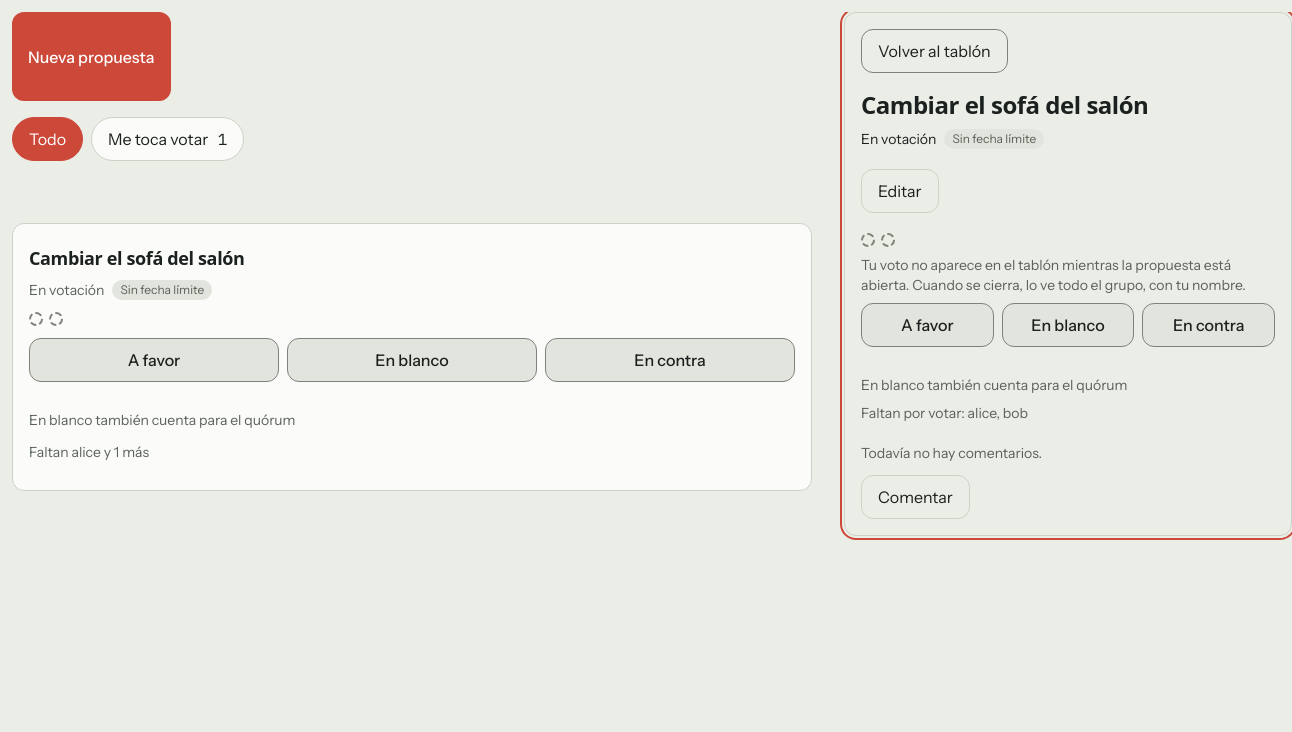
Test: BoardPage, el momento de votar › se anuncia una sola vez aunque la propuesta esté en la lista y en el panel a la vez
Click the 1st button "A favor".
click(927, 325)  # box [861,303,994,347]
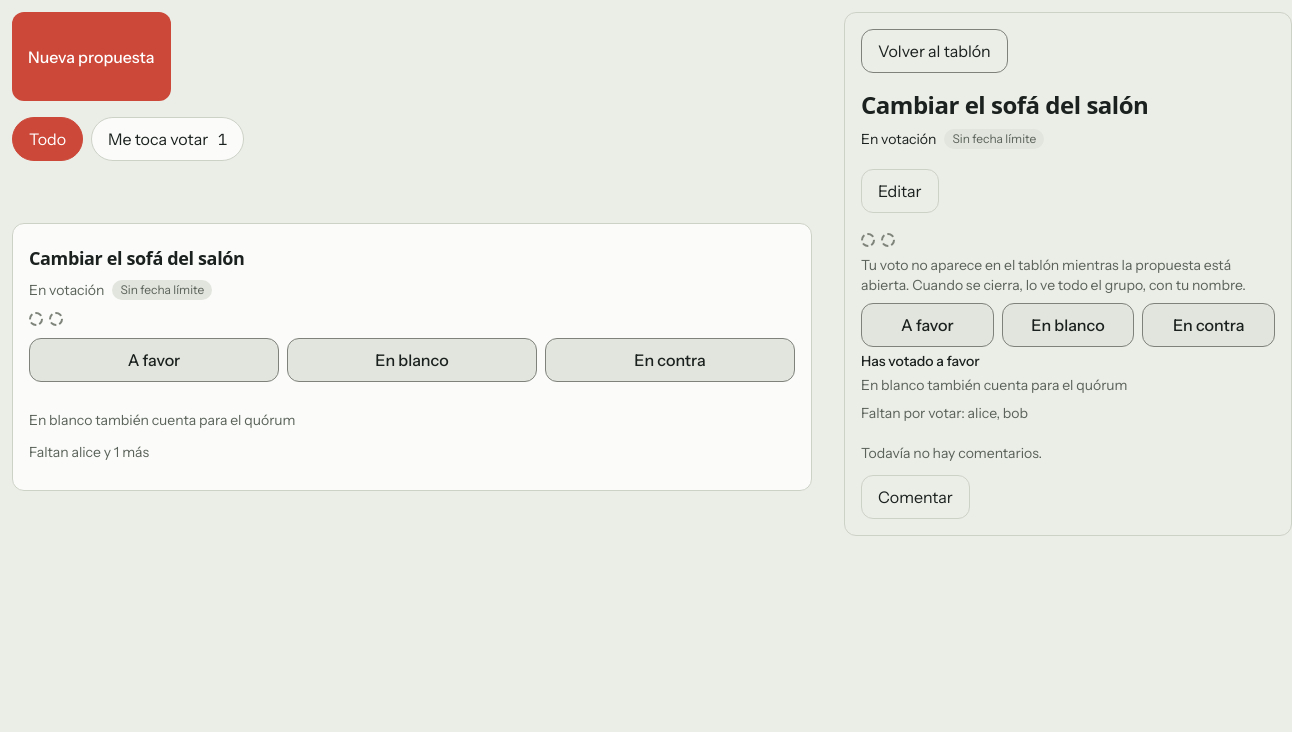
Result: the message "Has votado a favor" is shown at [861,352,980,370]
